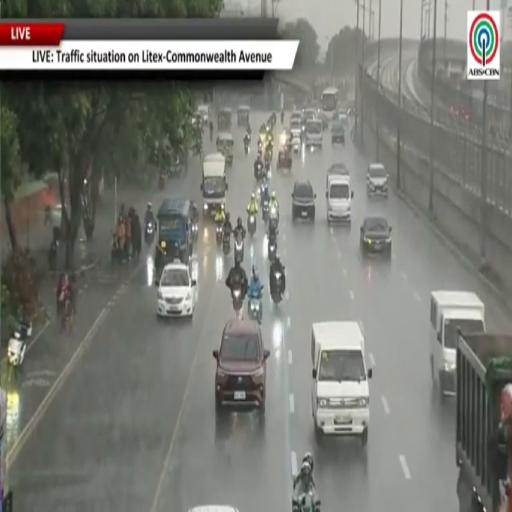bus: (320, 86, 338, 120)
car: (213, 319, 270, 414), (158, 261, 196, 317), (360, 216, 392, 258), (292, 181, 316, 221), (366, 164, 388, 197), (331, 121, 344, 145), (189, 505, 238, 511)
jeepney: (217, 133, 233, 165), (217, 108, 232, 132), (238, 106, 250, 127)
motorcycle: (8, 322, 32, 367), (292, 491, 320, 511), (271, 271, 284, 305), (111, 234, 124, 263), (248, 297, 262, 323), (232, 287, 243, 317), (48, 238, 58, 271), (234, 234, 244, 263), (269, 206, 278, 231), (145, 222, 154, 245), (268, 237, 276, 262), (254, 163, 264, 182), (248, 214, 256, 236), (223, 230, 230, 254), (216, 224, 223, 247), (262, 200, 269, 222), (191, 222, 199, 241), (292, 139, 301, 154), (264, 160, 270, 179), (159, 174, 164, 189), (245, 140, 249, 155), (258, 140, 262, 153)
tricycle: (277, 146, 291, 171)
truck: (456, 330, 511, 511), (325, 164, 353, 222), (0, 389, 13, 511)
